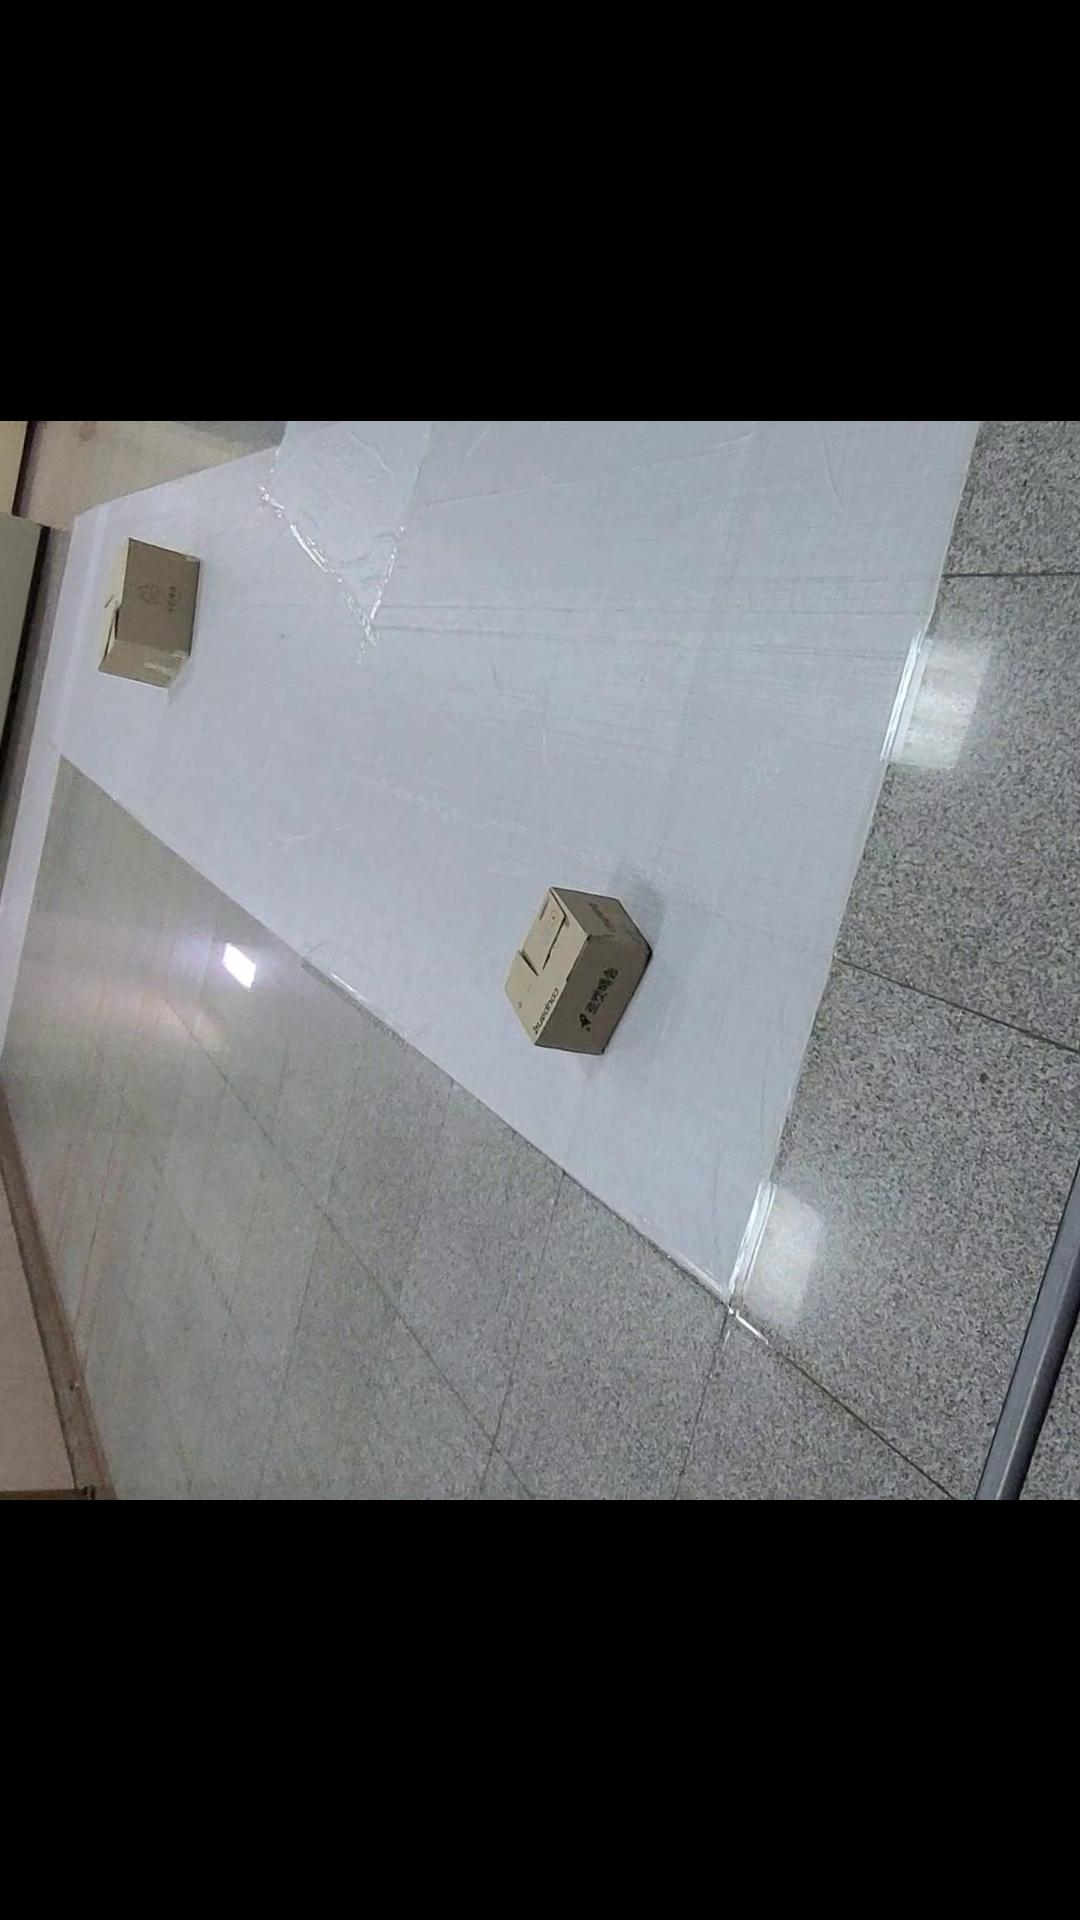Box: (475, 868, 667, 1083), (73, 524, 220, 709)
